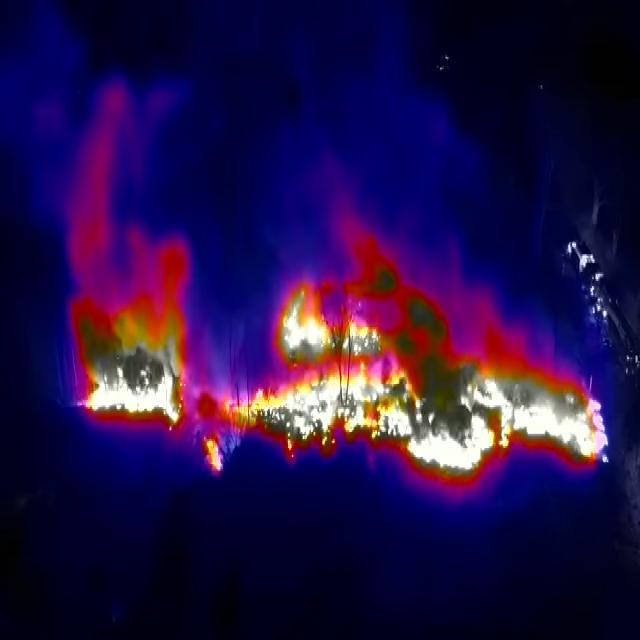fire: (255, 259, 610, 480), (70, 255, 186, 428), (203, 368, 256, 484)
